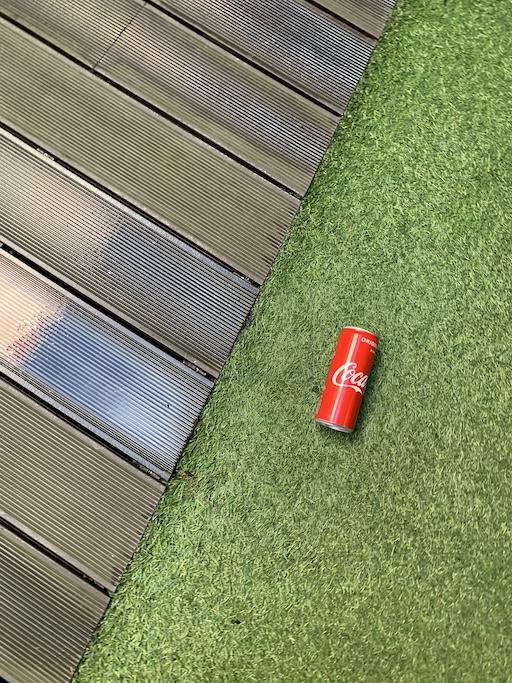Aluminum can: (300, 313, 389, 444)
